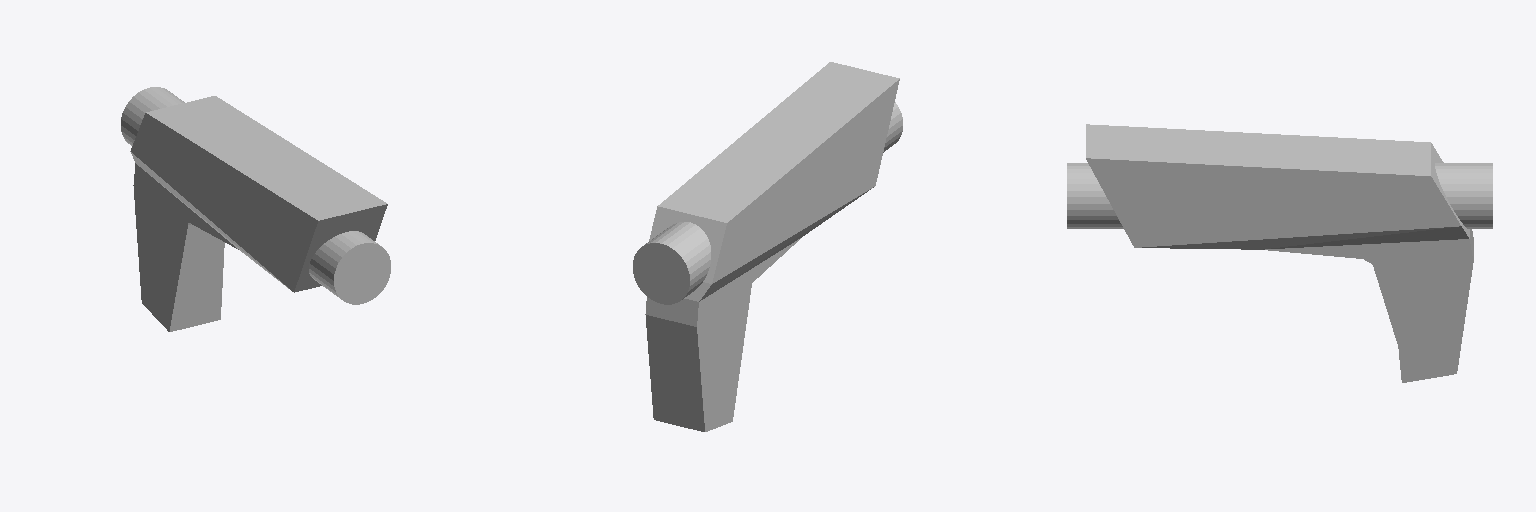
Rendered from THUNDERBOLT.obj.
3 views of the same model, side by side, from view 1: azimuth 30°, elevation 25°; view 2: azimuth 150°, elevation 25°; view 3: azimuth 270°, elevation 25° (orthographic).
Visible parts, largest first — view 1: Cylinder.001; view 2: Cylinder.001; view 3: Cylinder.001.
Part boxes in pixels (x1,y1,x2,y2): Cylinder.001: (121, 87, 390, 331); Cylinder.001: (633, 62, 902, 431); Cylinder.001: (1067, 124, 1492, 382).
Bounding box in the file's own units: 0.9098 × 2.86 × 4.83.